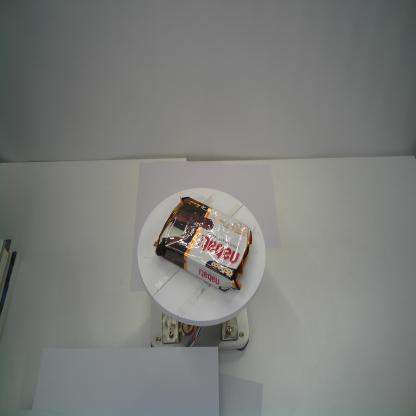Dessert: (152, 193, 254, 296)
